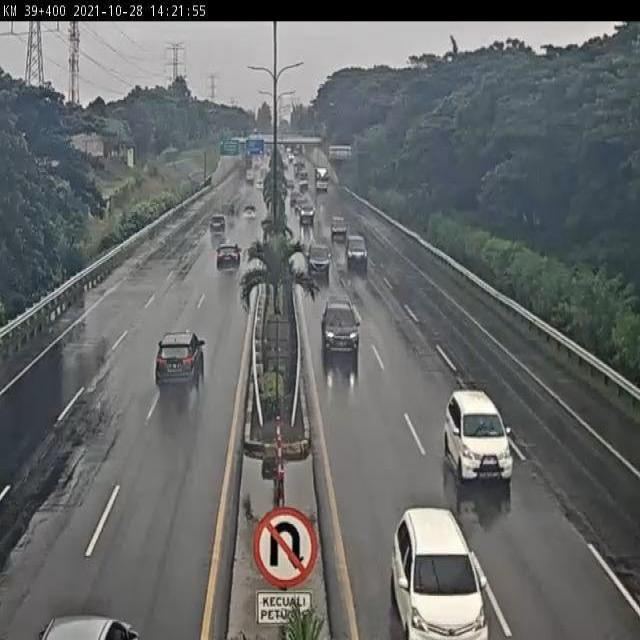car: (445, 388, 514, 484), (153, 334, 206, 390), (321, 298, 362, 362), (305, 241, 331, 280), (214, 240, 242, 275), (345, 233, 368, 271)
